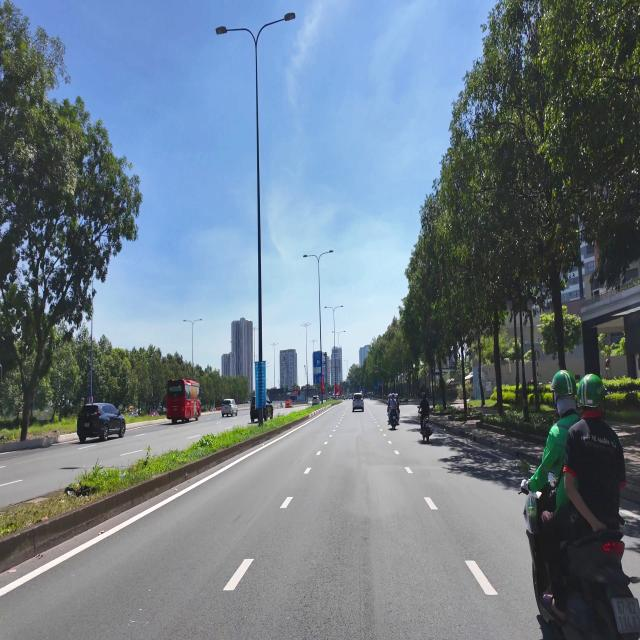car: (77, 403, 125, 442), (221, 399, 237, 416), (250, 394, 258, 422), (353, 393, 364, 411), (312, 395, 319, 405)
motorcycle: (521, 490, 639, 639), (419, 407, 432, 442), (389, 409, 399, 429)
